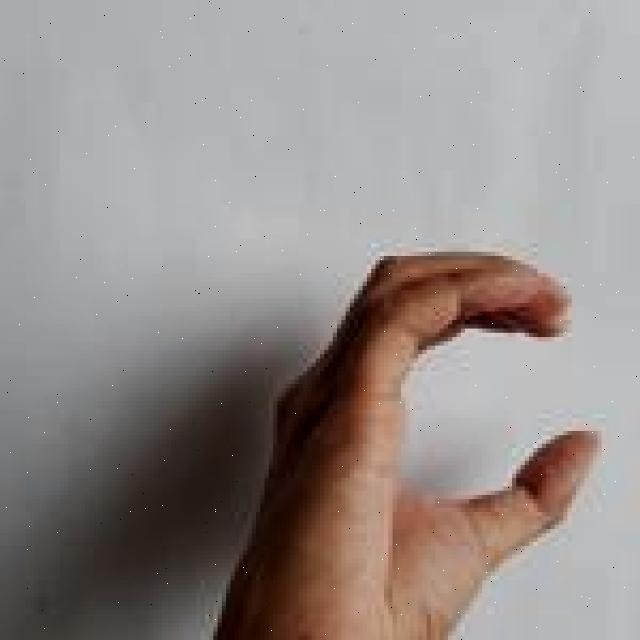C: (212, 246, 608, 640)
